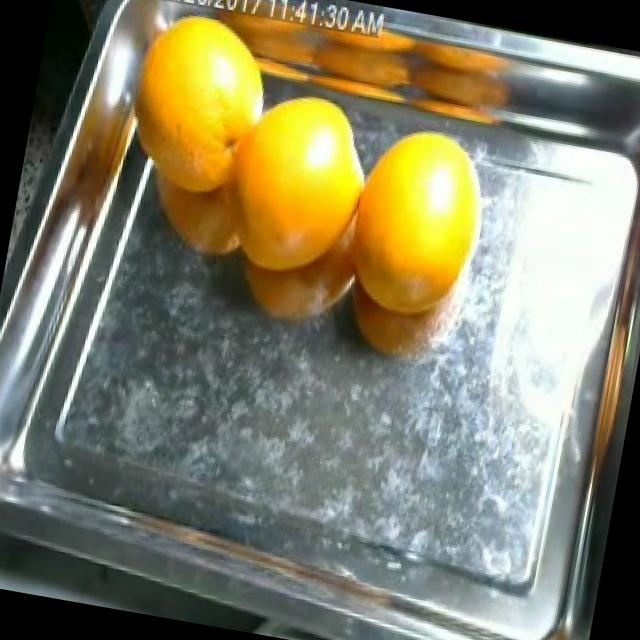Fruit: (329, 104, 512, 320)
